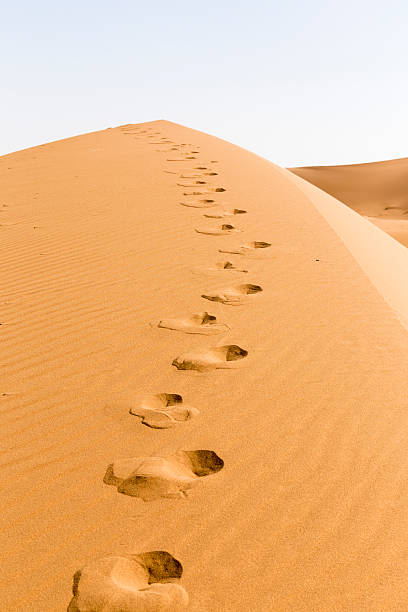human_foot_print: (67, 551, 188, 611), (104, 449, 223, 500), (129, 393, 198, 428), (172, 344, 247, 371), (152, 311, 229, 334), (201, 283, 262, 305), (195, 224, 242, 235)
